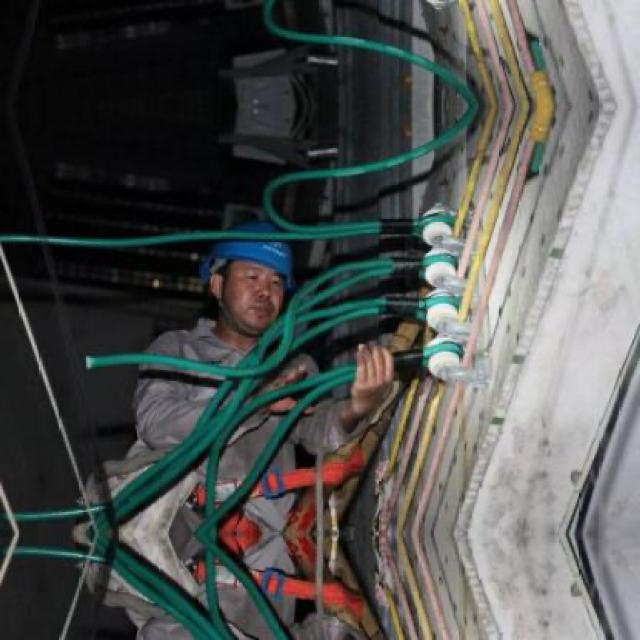helmet: (194, 218, 303, 336)
